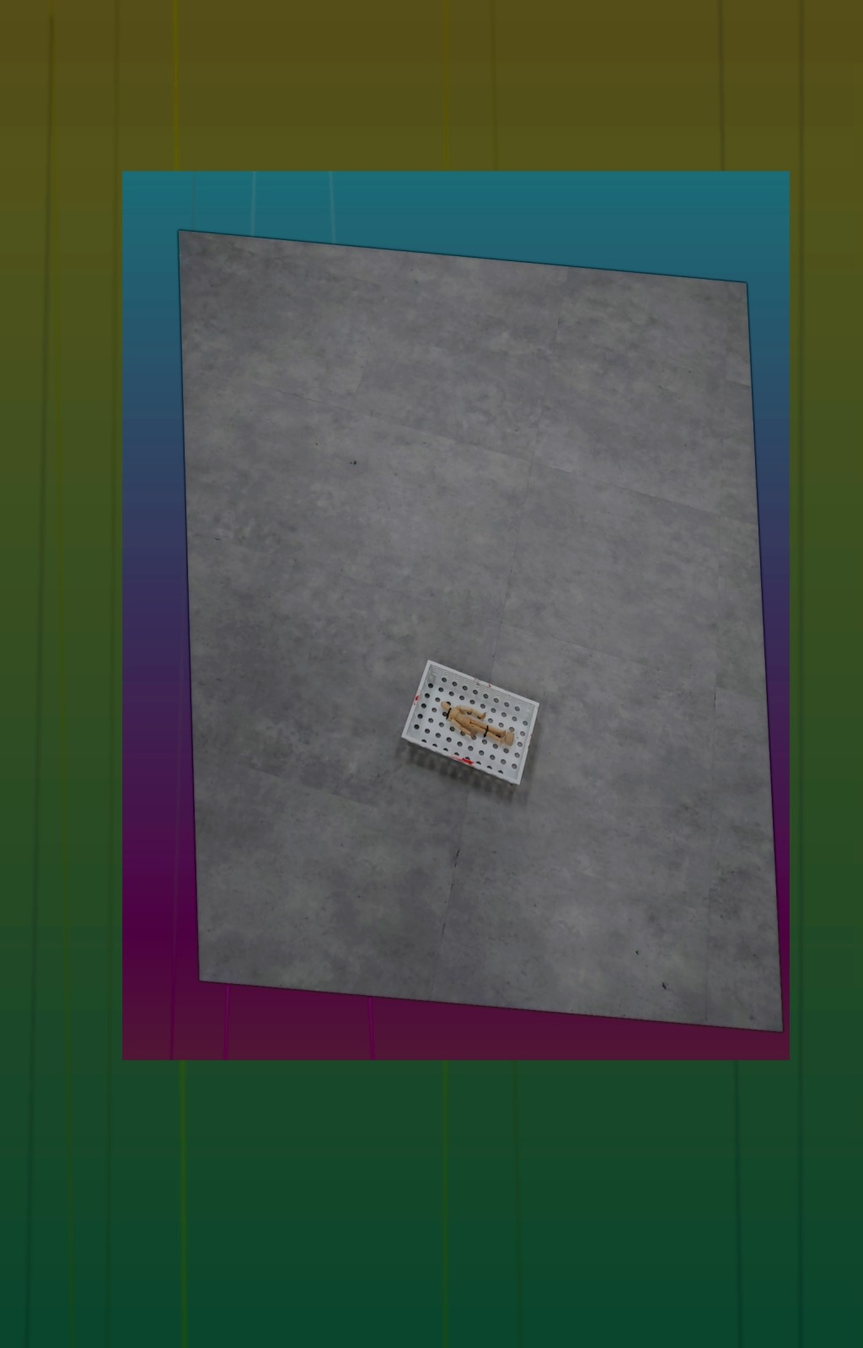basket: (396, 652, 544, 803)
mannequin: (432, 698, 515, 750)
